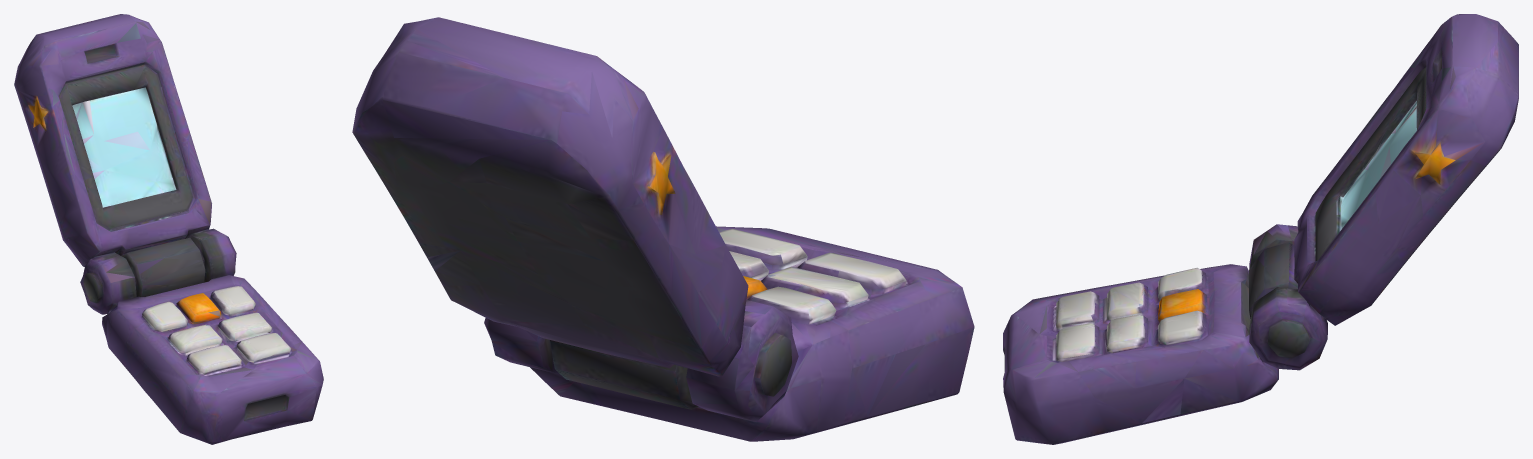
File: ping_phone.glb
3 views of the same model, side by side, from view 1: azimuth 30°, elevation 25°; view 2: azimuth 150°, elevation 25°; view 3: azimuth 270°, elevation 25° (orthographic). The views are drawn at different scales.
Parts seen in each view (by area): view 1: node_0; view 2: node_0; view 3: node_0.
Part boxes in pixels (x1=…): node_0: x1=14, y1=14, x2=323, y2=444; node_0: x1=352, y1=17, x2=974, y2=441; node_0: x1=1003, y1=14, x2=1518, y2=444.
Size of the model in its own units: 0.4057 by 0.7915 by 1.
1 material, 1 textured.
